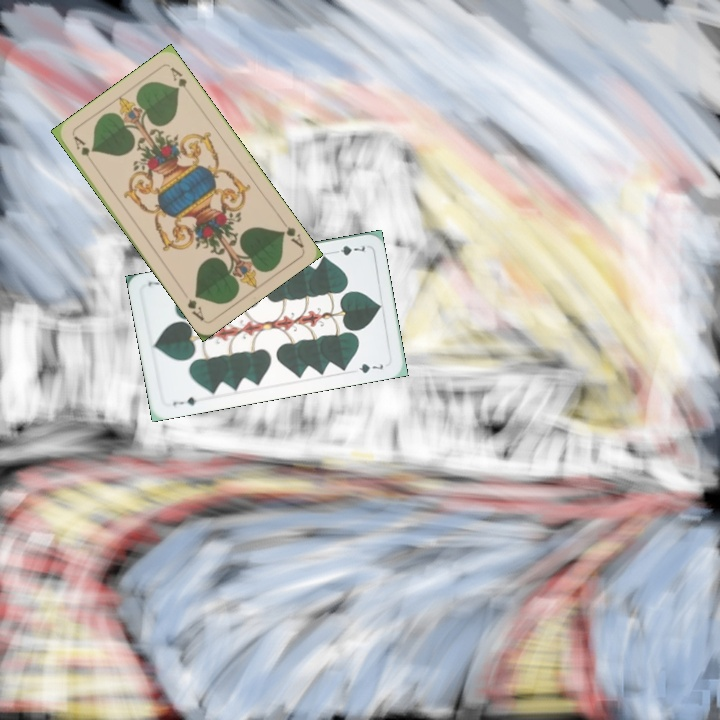G7: (328, 242, 368, 258), (169, 393, 199, 408)
GA: (277, 215, 306, 251), (70, 132, 97, 168)
